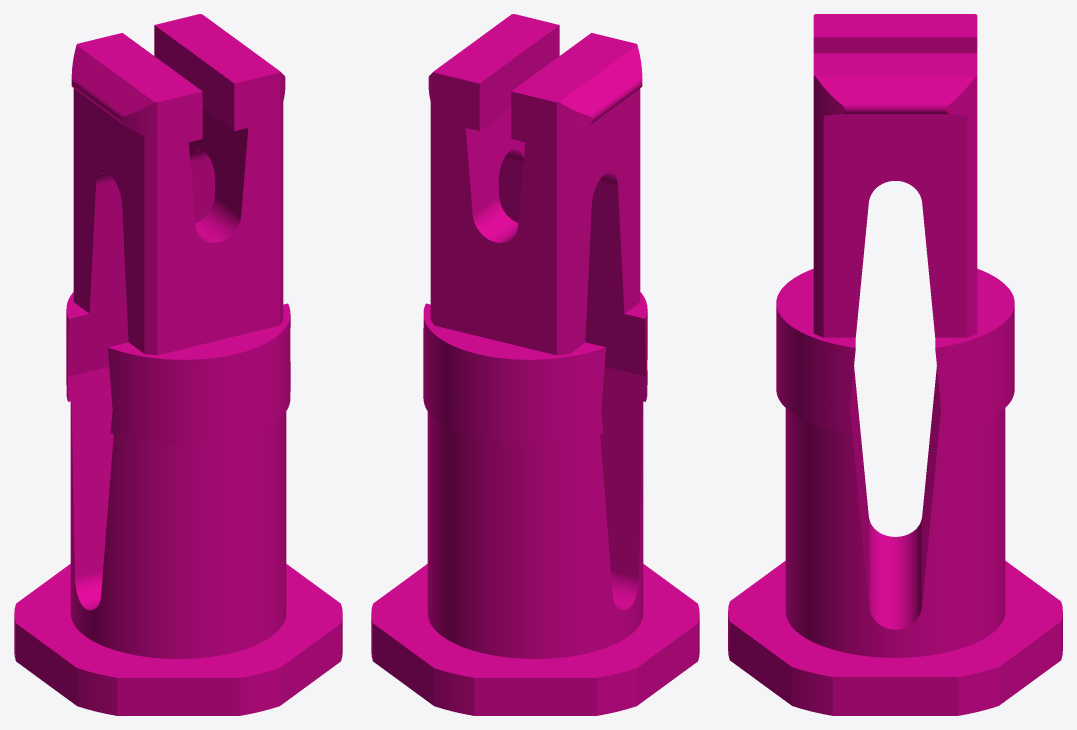
3 renders of one model, left to right at view 1: azimuth 30°, elevation 25°; view 2: azimuth 150°, elevation 25°; view 3: azimuth 270°, elevation 25°, orthographic.
Parts seen in each view (by area): view 1: 228-2500-2258; view 2: 228-2500-2258; view 3: 228-2500-2258.
Part boxes in pixels (x1,y1,x2,y2): 228-2500-2258: (14, 14, 342, 715); 228-2500-2258: (371, 14, 699, 715); 228-2500-2258: (728, 14, 1062, 715).
Bounding box in the file's own units: 0.0058 × 0.0125 × 0.00625.
